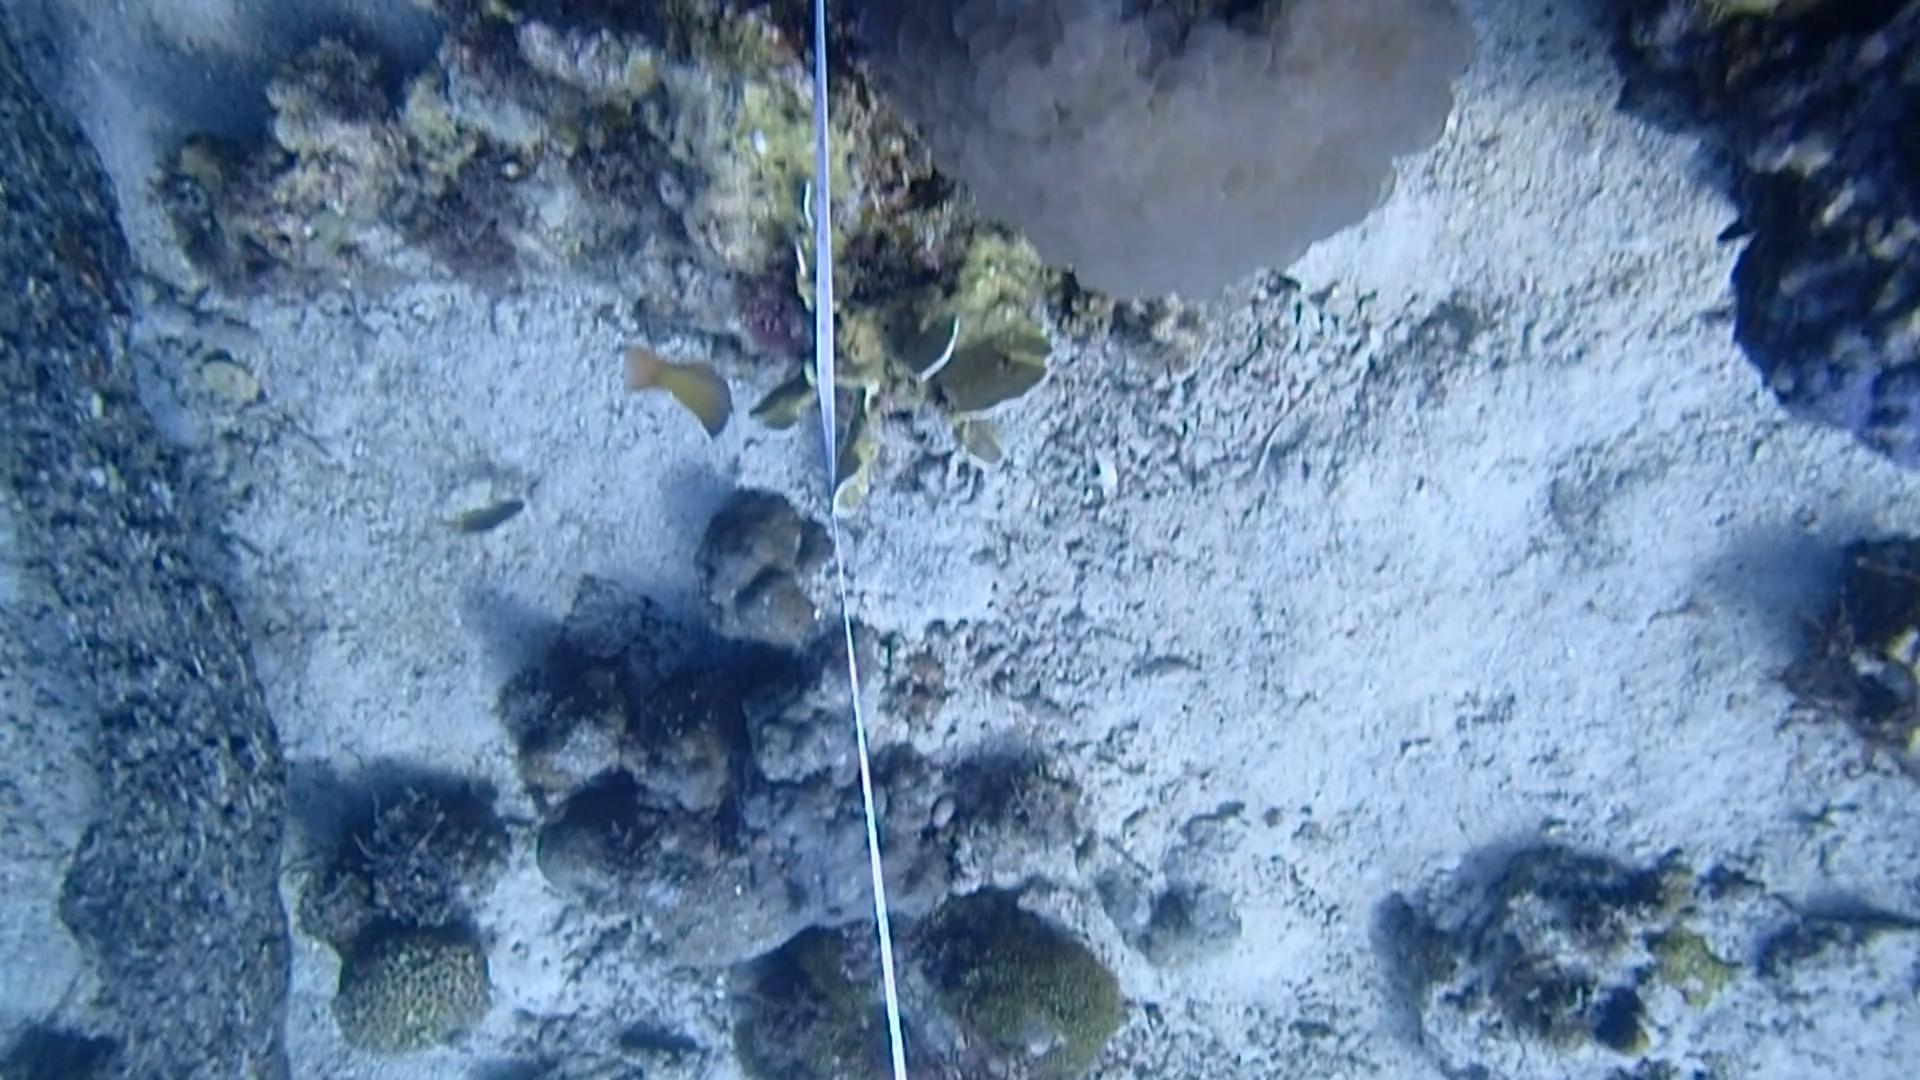Light Fish: (427, 483, 542, 553)
Yellow-Blue Fish: (615, 335, 746, 455)
